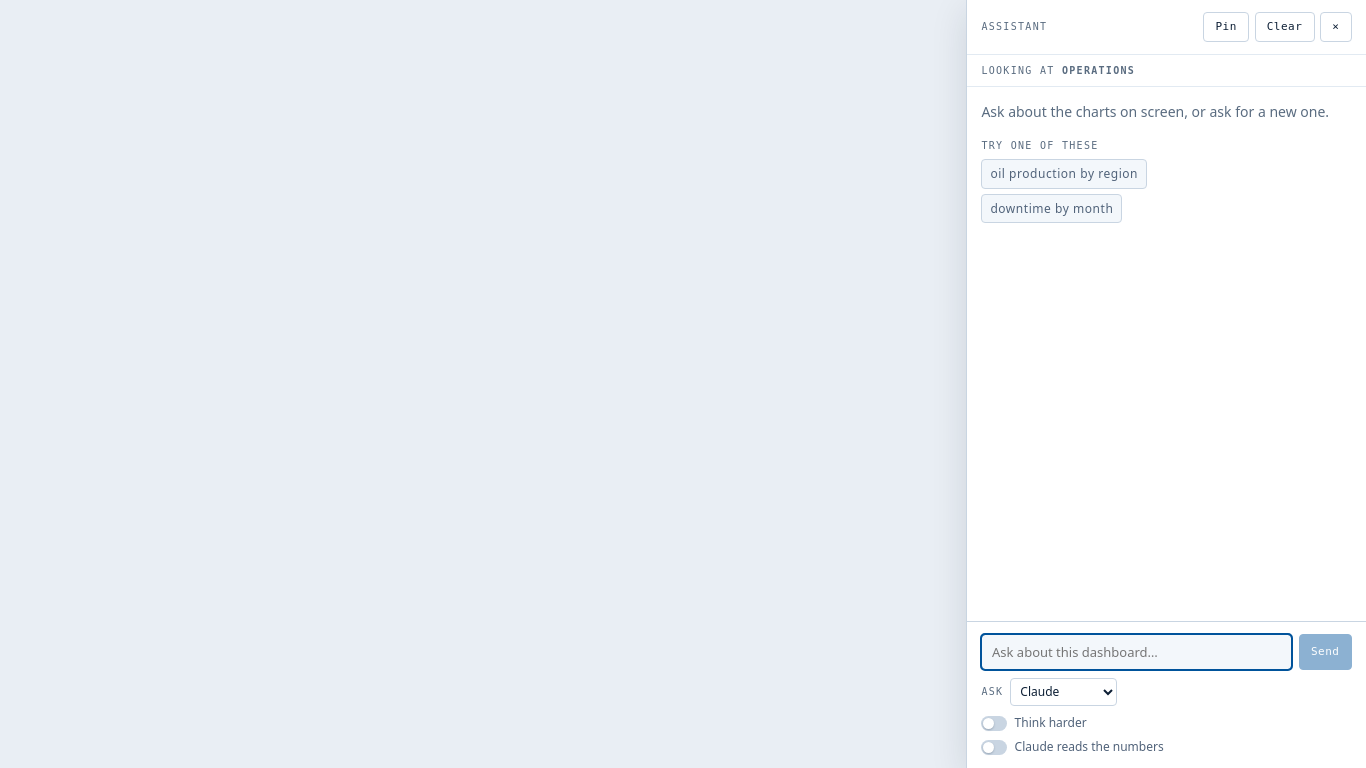
Test case: ChatPanel › asks before clearing rather than clearing and telling you
Click the button "Clear". click: (1284, 27)
box: x1=1254 y1=12 x2=1314 y2=42
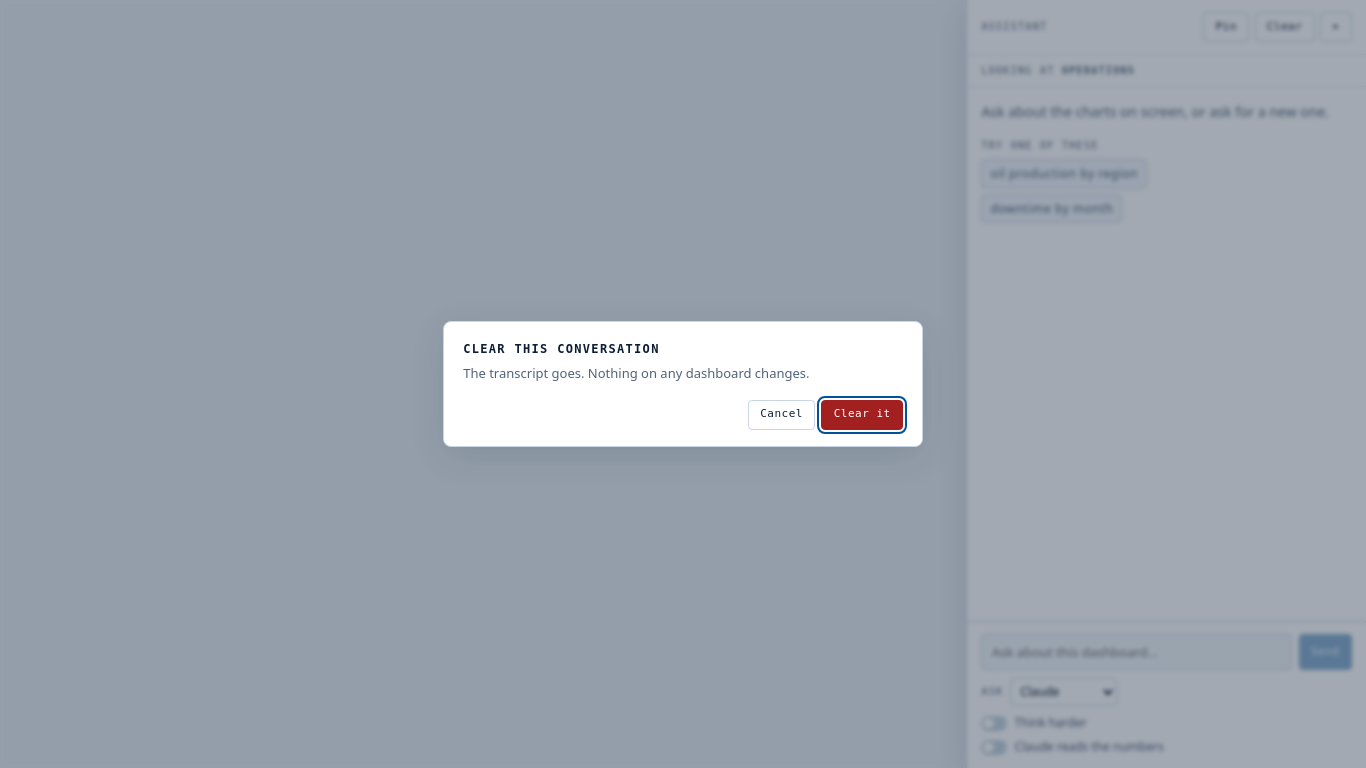
Now the dialog is shown, box x1=443 y1=321 x2=923 y2=447
